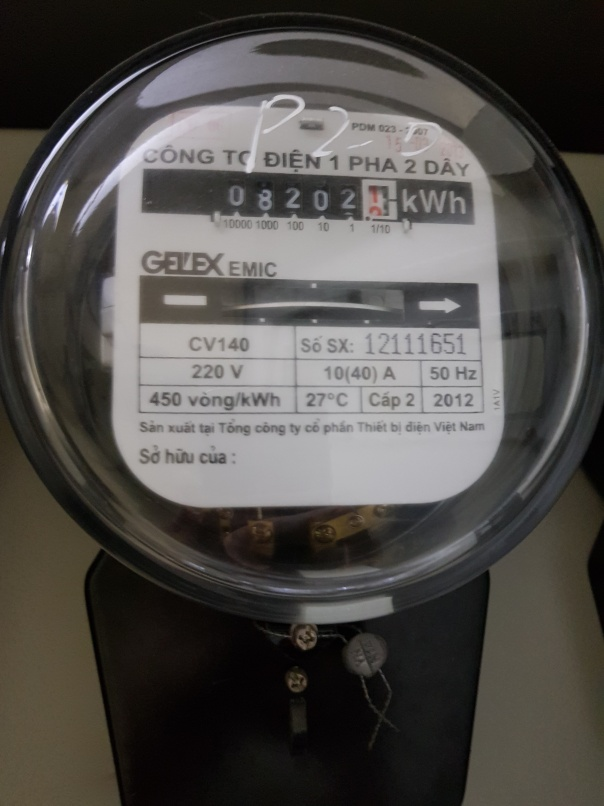counter: (141, 177, 473, 217)
electricity_meter: (4, 15, 600, 619)
